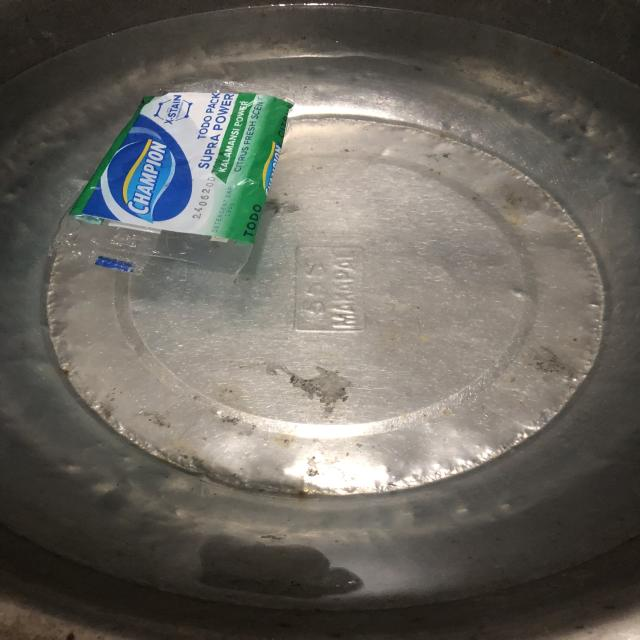Plastic Wrapper: (74, 91, 294, 279)
